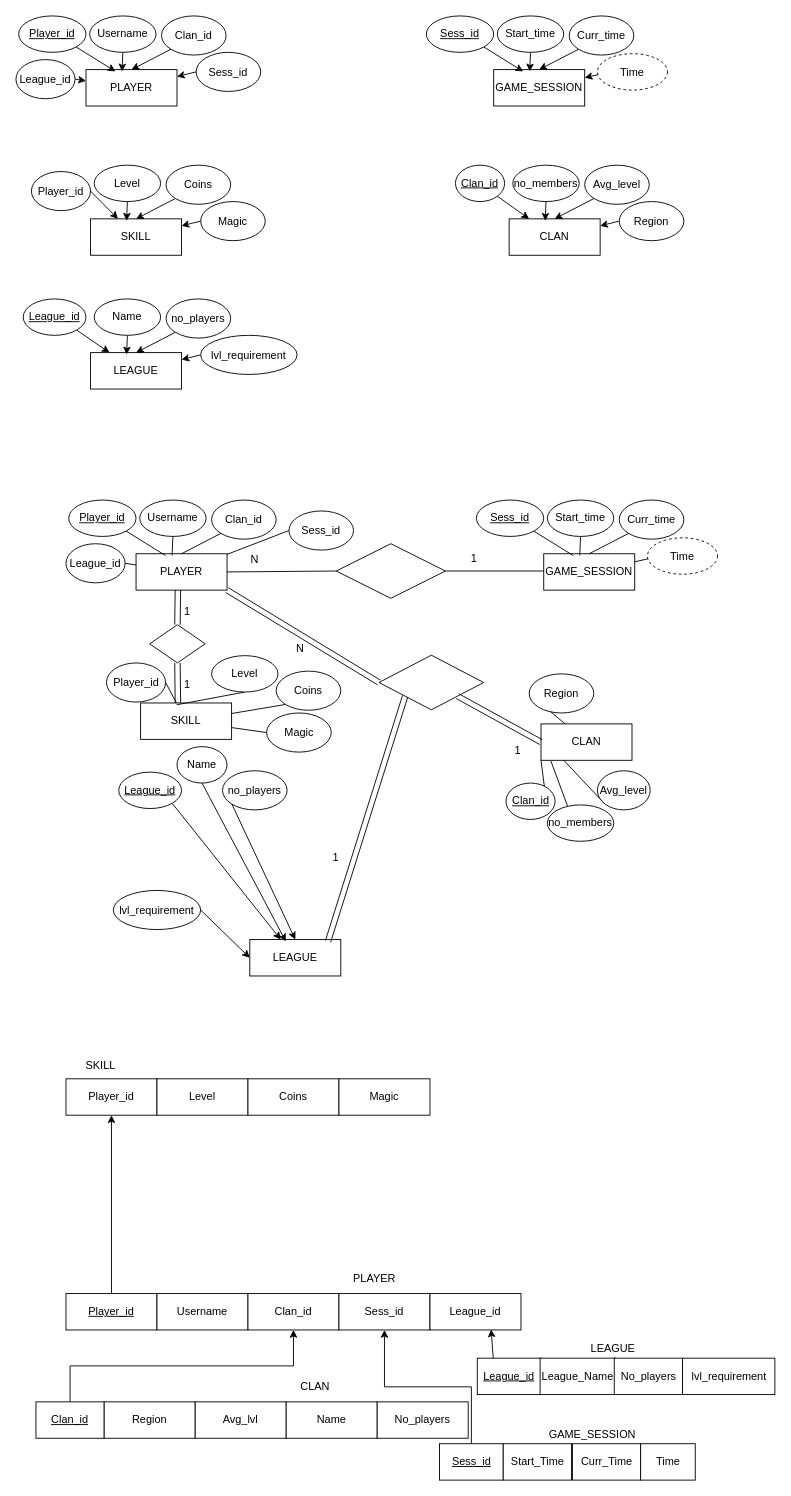
This 791x1496 diagram has some shape labels left out. The centre of each missing label's shape, as x and y in pixels:
"BELONGS_TO" belongs at [431,682].
"HAS" belongs at [177,643].
"JOINS" belongs at [390,570].
